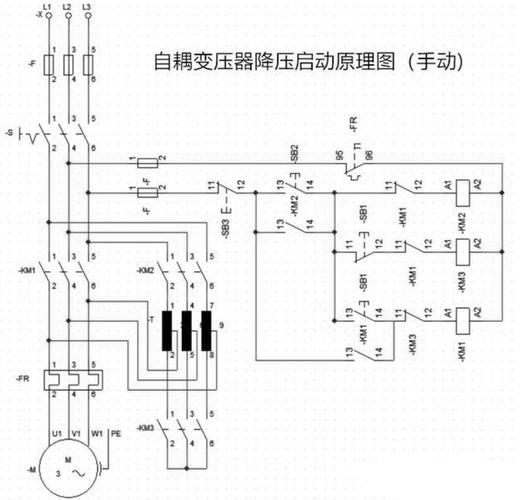res1: (197, 305, 213, 356), (159, 308, 175, 356), (180, 308, 194, 355), (132, 154, 160, 171), (41, 52, 56, 78), (81, 52, 95, 77), (135, 186, 160, 200), (63, 52, 75, 79)
switch: (383, 180, 426, 197), (343, 348, 386, 365), (346, 306, 384, 325), (396, 239, 436, 256), (395, 308, 434, 325), (280, 218, 309, 238), (173, 256, 190, 290), (153, 414, 171, 446), (349, 248, 383, 264), (36, 257, 53, 288), (194, 258, 210, 290), (214, 178, 239, 198), (283, 178, 308, 198), (194, 414, 209, 447), (37, 117, 52, 149), (154, 256, 170, 286), (57, 256, 71, 290), (77, 118, 92, 149), (176, 414, 190, 447), (58, 120, 73, 150), (77, 258, 91, 290), (341, 161, 366, 173)
